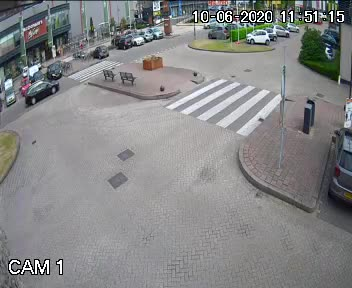car: (14, 75, 67, 104)
